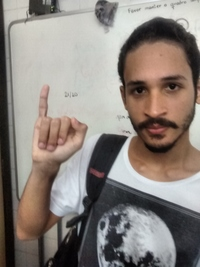oi: (31, 81, 89, 166)
